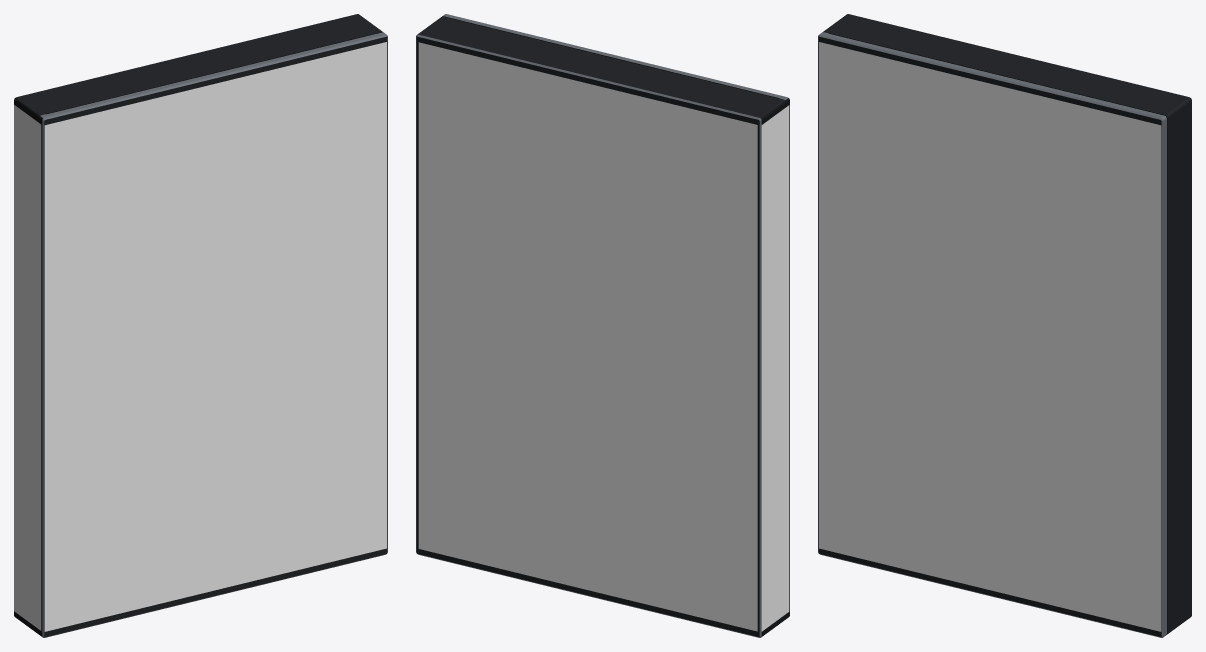
The model's file is segacd_case.glb.
3 views of the same model, side by side, from view 1: azimuth 30°, elevation 25°; view 2: azimuth 150°, elevation 25°; view 3: azimuth 330°, elevation 25° (orthographic).
Parts seen in each view (by area): view 1: segacd_case; view 2: segacd_case; view 3: segacd_case.
Boxes of the visible parts, x1,y1,x2,y2 form: segacd_case: (14, 14, 387, 637); segacd_case: (416, 14, 789, 637); segacd_case: (818, 14, 1191, 637).
Bounding box in the file's own units: 0.6957 × 1 × 0.1039.
Materials: 4 (1 with a texture image).
